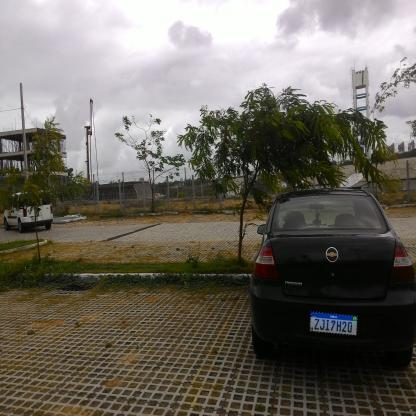PlacaM: (309, 311, 358, 336)
